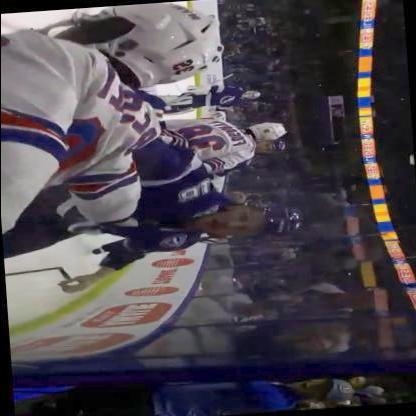voilence: (1, 103, 305, 300), (1, 1, 239, 246)
